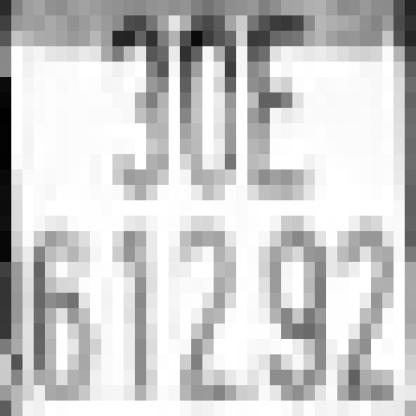0: (180, 16, 225, 200)
1: (112, 200, 158, 385)
2: (326, 216, 382, 385), (180, 200, 225, 385)
3: (101, 16, 169, 200)
6: (34, 216, 101, 385)
9: (258, 200, 314, 385)
E: (236, 16, 304, 200)
